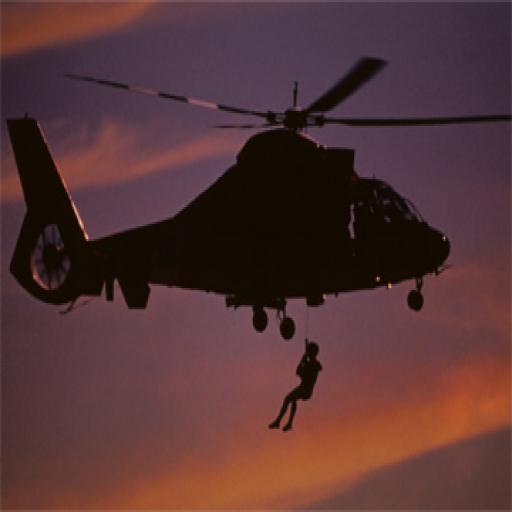helicopter: (3, 57, 458, 343)
